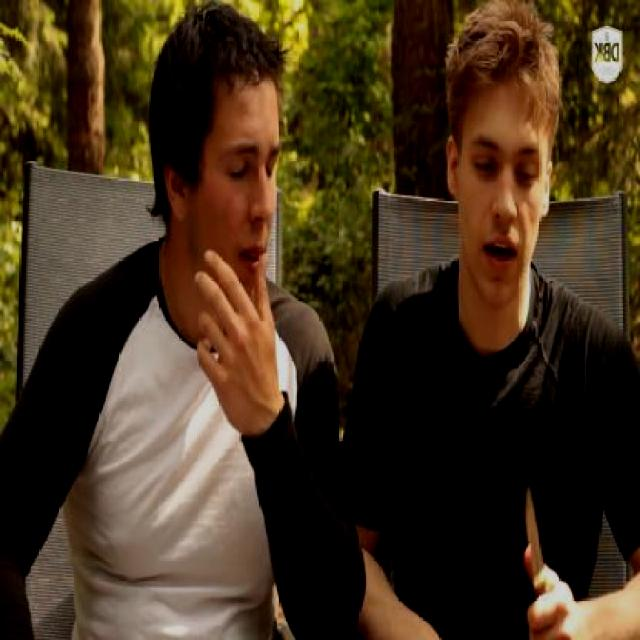knife: (511, 458, 571, 640)
